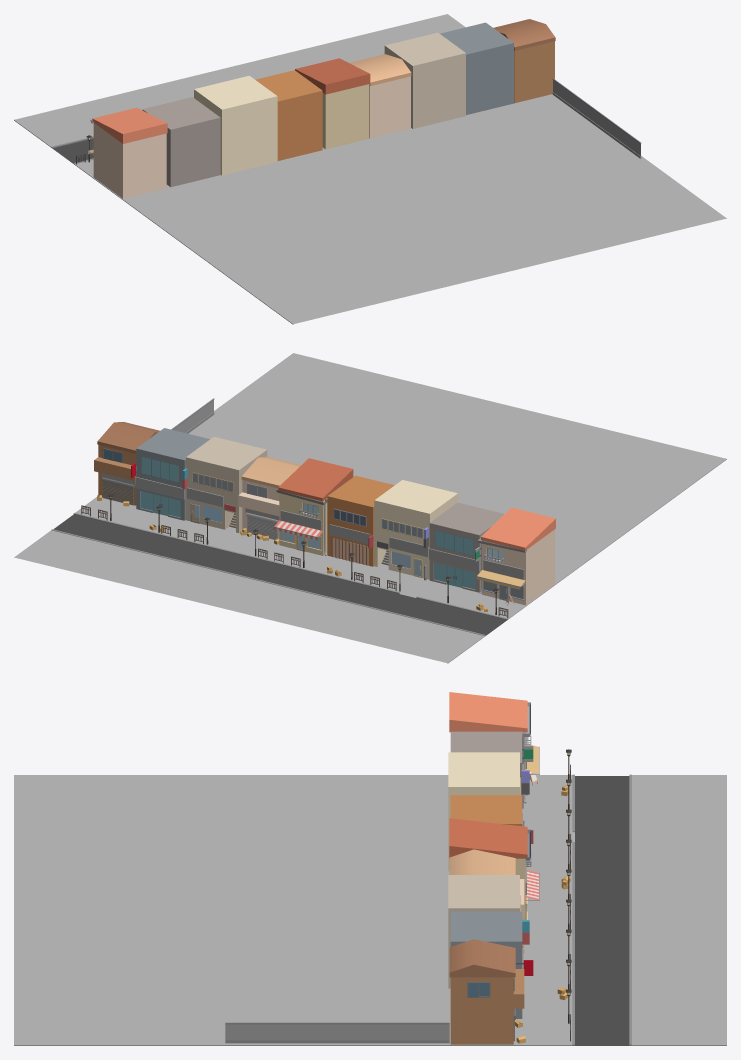
Rendered from doggo_Street_set01.fbx.
The picture shows the model from 3 angles, top to bottom: view 1: azimuth 30°, elevation 25°; view 2: azimuth 150°, elevation 25°; view 3: azimuth 270°, elevation 25°; orthographic projection. The views are drawn at different scales.
Parts seen in each view (by area): view 1: doggo_Street_ground, doggo_Street_Building_cafe_A_main, doggo_Street_Building_barberShop_main, doggo_Street_Building_shop_D_main, doggo_Street_Building_shop_A_main, polySurface2, doggo_Street_Building_shop_E_main, doggo_Street_Building_shop_B_main, doggo_Street_Building_shop_C_main, doggo_Street_Building_shop_F_main, doggo_Street_fence_B; view 2: doggo_Street_ground, doggo_Street_Building_cafe_A_main, doggo_Street_Building_barberShop_main, doggo_Street_Building_shop_D_main, polySurface2, doggo_Street_Building_shop_A_main, doggo_Street_Building_shop_E_main, doggo_Street_Building_shop_B_main, doggo_Street_Building_shop_F_main, doggo_Street_Building_shop_C_main, doggo_Street_fence_A, doggo_Street_fence_B (+3 smaller); view 3: doggo_Street_ground, doggo_Street_Building_shop_F_main, doggo_Street_fence_B, doggo_Street_Building_barberShop_main, doggo_Street_Building_cafe_A_main, polySurface2, doggo_Street_Building_shop_D_main, doggo_Street_Building_shop_E_main, doggo_Street_Building_shop_B_main, doggo_Street_Building_shop_A_main, doggo_Street_Building_shop_C_main, doggo_Street_lamp_C.
Part boxes in pixels (left/top/right/bottom): doggo_Street_ground: left=14, top=14, right=726, bottom=324; doggo_Street_Building_cafe_A_main: left=87, top=107, right=167, bottom=198; doggo_Street_Building_barberShop_main: left=194, top=75, right=277, bottom=175; doggo_Street_Building_shop_D_main: left=384, top=32, right=465, bottom=128; doggo_Street_Building_shop_A_main: left=142, top=97, right=220, bottom=187; polySurface2: left=295, top=58, right=370, bottom=149; doggo_Street_Building_shop_E_main: left=440, top=22, right=513, bottom=114; doggo_Street_Building_shop_B_main: left=255, top=70, right=322, bottom=160; doggo_Street_Building_shop_C_main: left=349, top=54, right=411, bottom=138; doggo_Street_Building_shop_F_main: left=493, top=19, right=555, bottom=103; doggo_Street_fence_B: left=552, top=78, right=641, bottom=158; doggo_Street_ground: left=14, top=353, right=726, bottom=663; doggo_Street_Building_cafe_A_main: left=476, top=507, right=555, bottom=605; doggo_Street_Building_barberShop_main: left=374, top=480, right=457, bottom=580; doggo_Street_Building_shop_D_main: left=182, top=437, right=267, bottom=532; polySurface2: left=274, top=458, right=353, bottom=555; doggo_Street_Building_shop_A_main: left=429, top=502, right=504, bottom=592; doggo_Street_Building_shop_E_main: left=131, top=428, right=209, bottom=520; doggo_Street_Building_shop_B_main: left=327, top=475, right=394, bottom=566; doggo_Street_Building_shop_F_main: left=94, top=422, right=159, bottom=505; doggo_Street_Building_shop_C_main: left=238, top=457, right=300, bottom=539; doggo_Street_fence_A: left=81, top=505, right=508, bottom=618; doggo_Street_fence_B: left=171, top=398, right=214, bottom=433; doggo_Street_ground: left=14, top=774, right=726, bottom=1045; doggo_Street_Building_shop_F_main: left=449, top=939, right=524, bottom=1044; doggo_Street_fence_B: left=225, top=1022, right=449, bottom=1043; doggo_Street_Building_barberShop_main: left=448, top=752, right=529, bottom=871; doggo_Street_Building_cafe_A_main: left=449, top=692, right=539, bottom=803; polySurface2: left=449, top=818, right=539, bottom=919; doggo_Street_Building_shop_D_main: left=448, top=875, right=529, bottom=988; doggo_Street_Building_shop_E_main: left=450, top=911, right=533, bottom=1018; doggo_Street_Building_shop_B_main: left=450, top=795, right=533, bottom=843; doggo_Street_Building_shop_A_main: left=450, top=731, right=533, bottom=795; doggo_Street_Building_shop_C_main: left=449, top=849, right=524, bottom=918; doggo_Street_lamp_C: left=566, top=749, right=571, bottom=1023.
Bounding box in the file's own units: 48.98 × 7.17 × 54.57.
